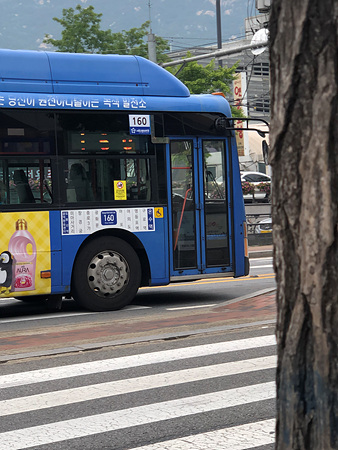entrance: (166, 130, 237, 281)
